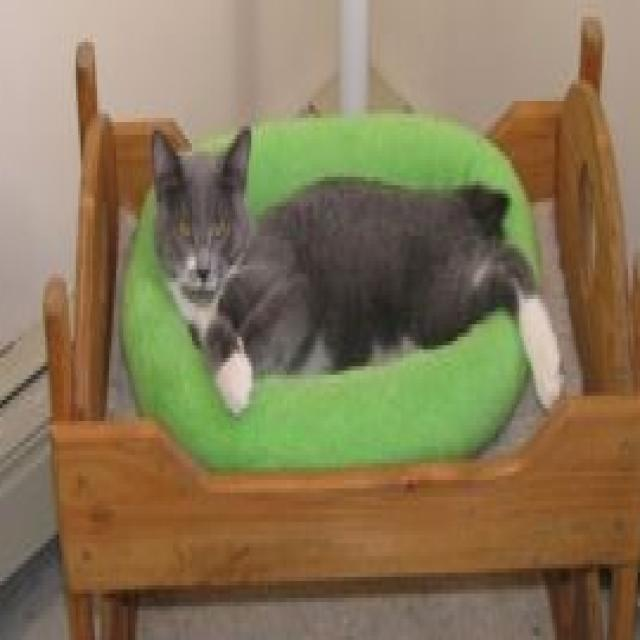American Bobtail: (145, 112, 565, 418)
